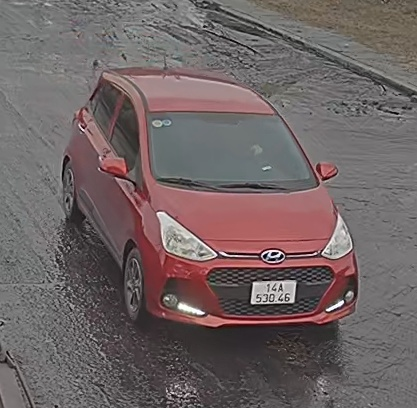vehicle plate: (248, 277, 296, 301)
